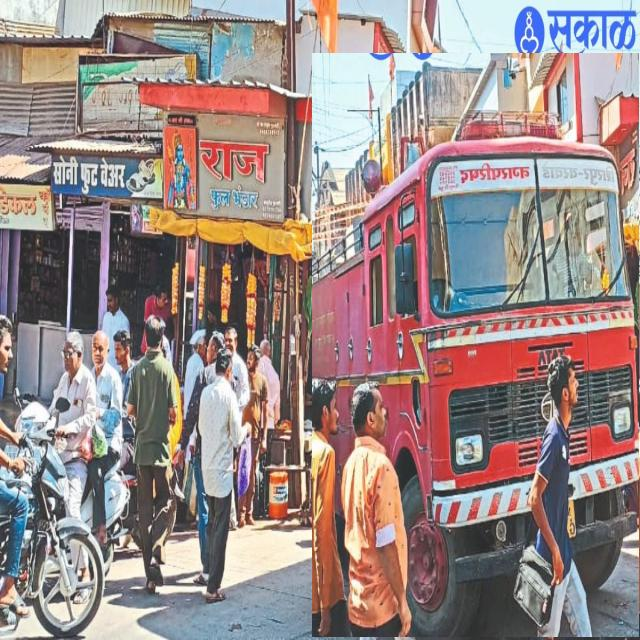emergency: (312, 53, 640, 637)
motorcycle: (0, 316, 105, 634)
